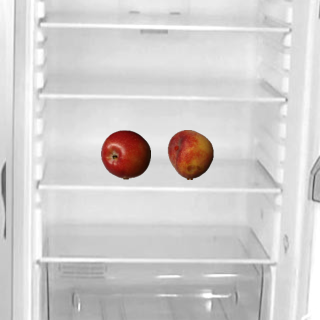Apple Braeburn: (100, 129, 150, 179)
Peach: (165, 129, 215, 179)
